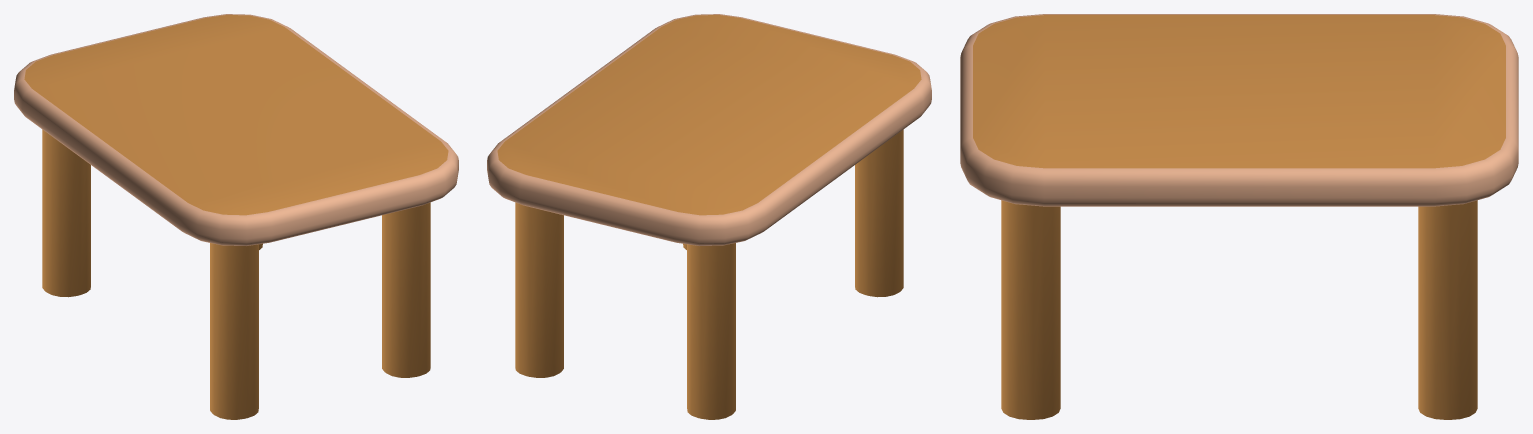
File: table.glb
3 renders of one model, left to right at view 1: azimuth 30°, elevation 25°; view 2: azimuth 150°, elevation 25°; view 3: azimuth 270°, elevation 25°, orthographic. The views are drawn at different scales.
Parts seen in each view (by area): view 1: Cube; view 2: Cube; view 3: Cube.
Part boxes in pixels (bbox=[...]): Cube: bbox=[14, 14, 458, 419]; Cube: bbox=[487, 14, 931, 419]; Cube: bbox=[960, 14, 1518, 419].
Bounding box in the file's own units: 11.63 × 8.72 × 16.74.
